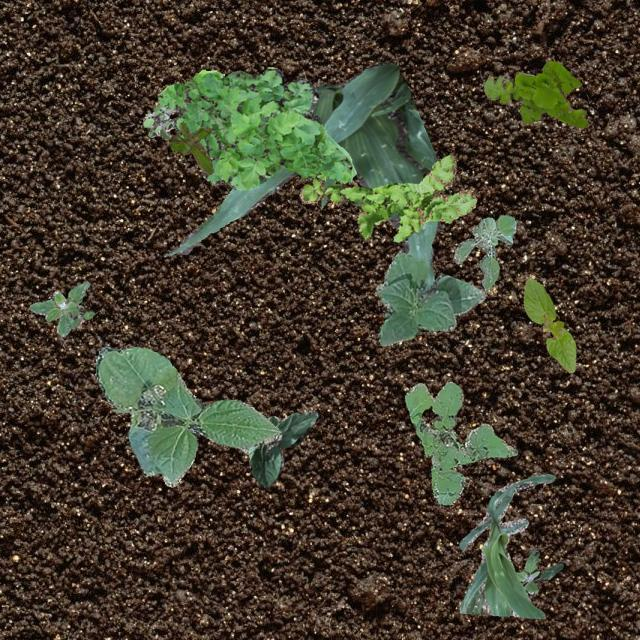crop: (168, 60, 440, 292), (94, 346, 280, 486), (458, 472, 554, 618), (374, 250, 484, 344), (240, 409, 316, 486), (522, 278, 574, 372)
weed: (156, 66, 354, 188), (298, 154, 474, 240), (404, 381, 516, 504), (482, 60, 588, 126), (452, 213, 514, 290), (28, 280, 94, 336), (168, 120, 212, 173), (514, 548, 562, 592), (142, 104, 174, 138)
